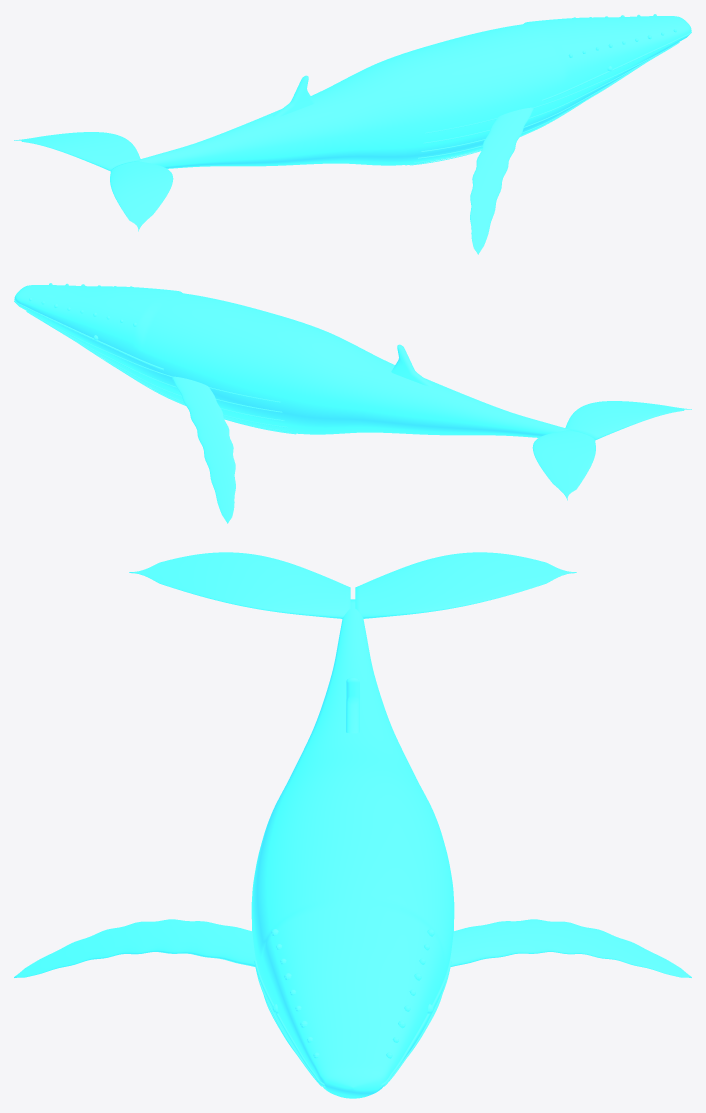
The model's file is holographic-whale.glb.
3 renders of one model, top to bottom at view 1: azimuth 30°, elevation 25°; view 2: azimuth 150°, elevation 25°; view 3: azimuth 270°, elevation 25°, orthographic. The views are drawn at different scales.
Visible parts, largest first — view 1: Whale | Continuous body, Whale | Pectoral starboard, Whale | Fluke starboard, Whale | Fluke port, Whale | Ventral pleats and rostral detail, Whale | Low hooked dorsal; view 2: Whale | Continuous body, Whale | Pectoral port, Whale | Fluke port, Whale | Fluke starboard, Whale | Ventral pleats and rostral detail, Whale | Low hooked dorsal; view 3: Whale | Continuous body, Whale | Fluke port, Whale | Fluke starboard, Whale | Pectoral port, Whale | Pectoral starboard, Whale | Ventral pleats and rostral detail.
Boxes of the visible parts, x1=… form: Whale | Continuous body: x1=133, y1=16, x2=691, y2=168; Whale | Pectoral starboard: x1=470, y1=107, x2=533, y2=254; Whale | Fluke starboard: x1=110, y1=161, x2=173, y2=231; Whale | Fluke port: x1=14, y1=132, x2=140, y2=171; Whale | Ventral pleats and rostral detail: x1=405, y1=14, x2=691, y2=165; Whale | Low hooked dorsal: x1=273, y1=75, x2=314, y2=117; Whale | Continuous body: x1=14, y1=285, x2=572, y2=437; Whale | Pectoral port: x1=172, y1=376, x2=235, y2=523; Whale | Fluke port: x1=532, y1=430, x2=595, y2=500; Whale | Fluke starboard: x1=565, y1=401, x2=691, y2=440; Whale | Ventral pleats and rostral detail: x1=14, y1=283, x2=299, y2=434; Whale | Low hooked dorsal: x1=391, y1=344, x2=432, y2=386; Whale | Continuous body: x1=251, y1=599, x2=454, y2=1098; Whale | Fluke port: x1=355, y1=552, x2=576, y2=618; Whale | Fluke starboard: x1=129, y1=552, x2=350, y2=618; Whale | Pectoral port: x1=450, y1=919, x2=691, y2=977; Whale | Pectoral starboard: x1=14, y1=919, x2=255, y2=977; Whale | Ventral pleats and rostral detail: x1=252, y1=928, x2=453, y2=1086.
Bounding box in the file's own units: 28.76 × 5.78 × 15.3.
